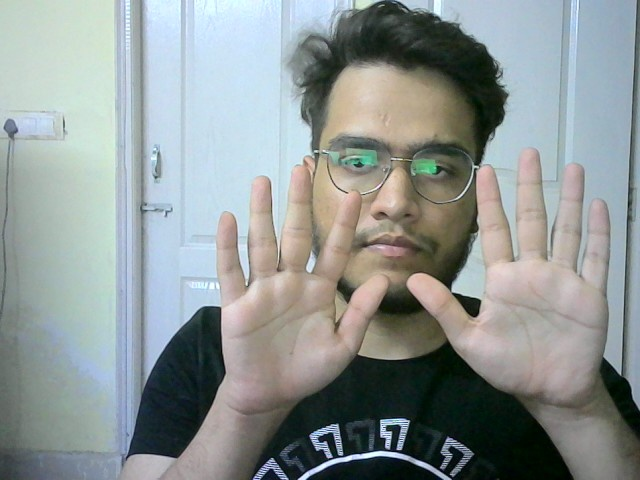Hello: (404, 142, 620, 413), (211, 161, 392, 411)
